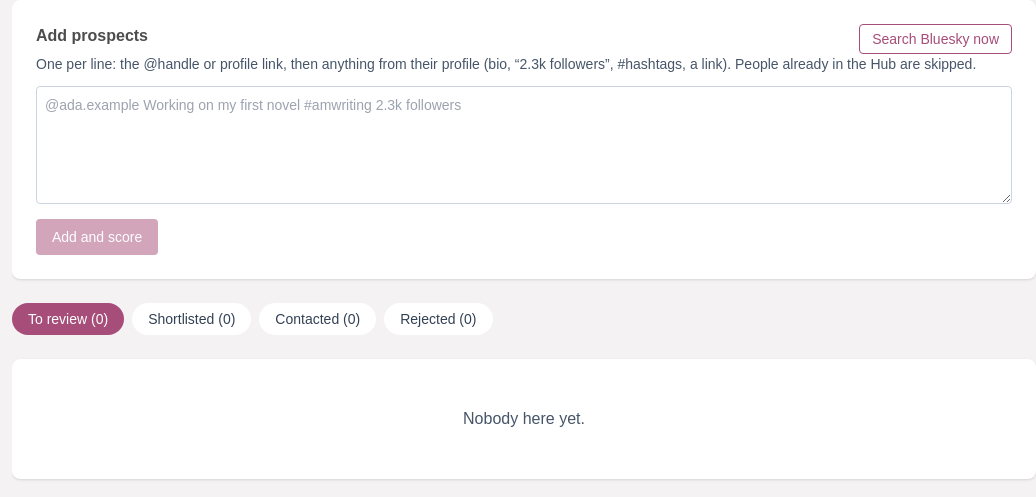
Test: ProspectsView › imports pasted text and reports what happened
Expected: the button "Add and score" is disabled, [36,219,158,255]
Type "@ada.example" into the text box named "Prospects to add" at (524, 145), box [36,86,1012,204]
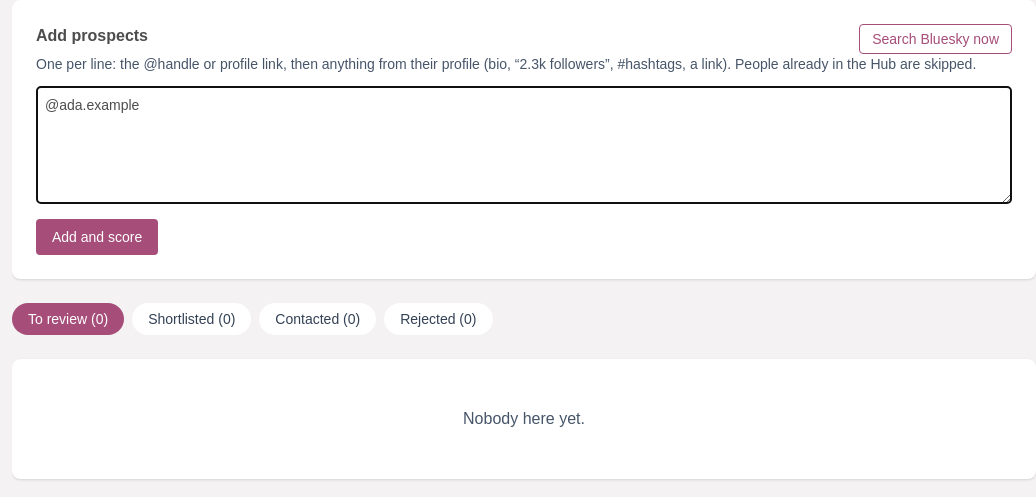
Click the button "Add and score" at (97, 237), box [36,219,158,255]
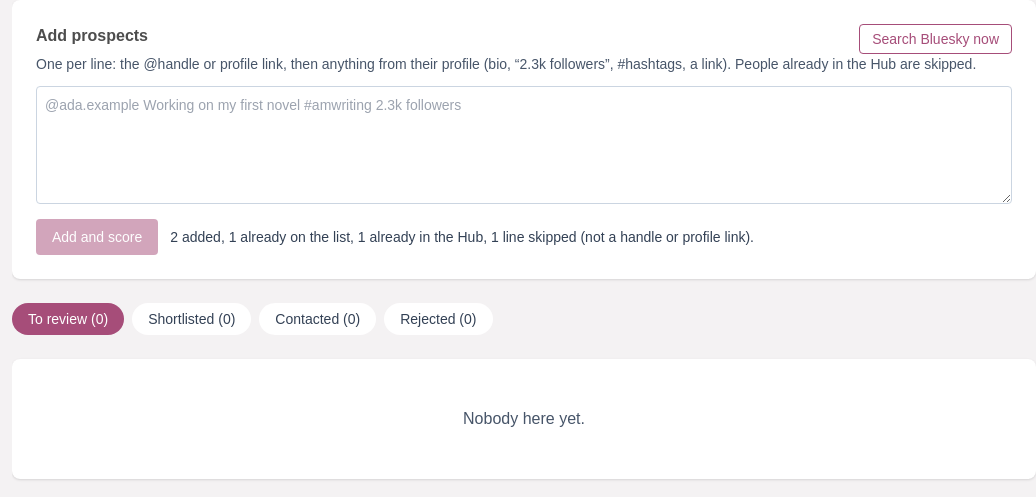
Now the message shows "2 added, 1 already on the list, 1 already in the Hub, 1 line skipped", box [170,229,754,245]
Now the text box named "Prospects to add" is empty, box [36,86,1012,204]
